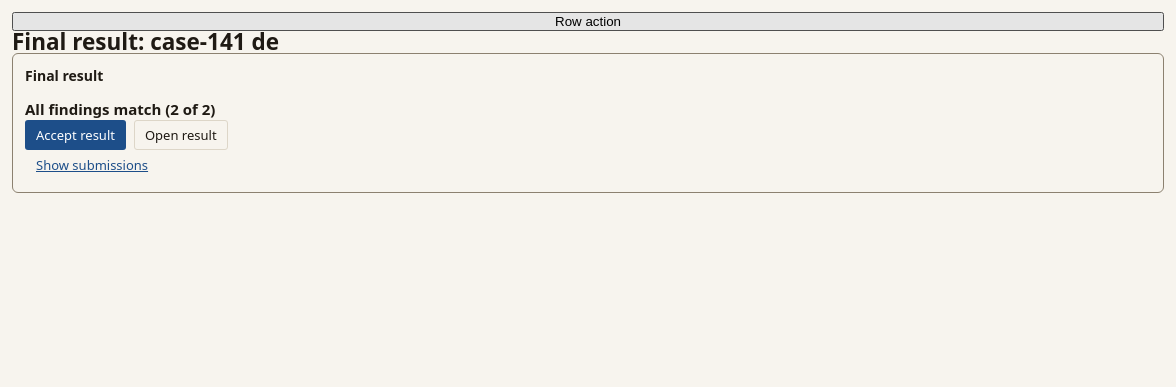
Test: full agreement (W1) › Show submissions lists the table
Click the button "Show submissions": (92, 165) [25,150,159,180]
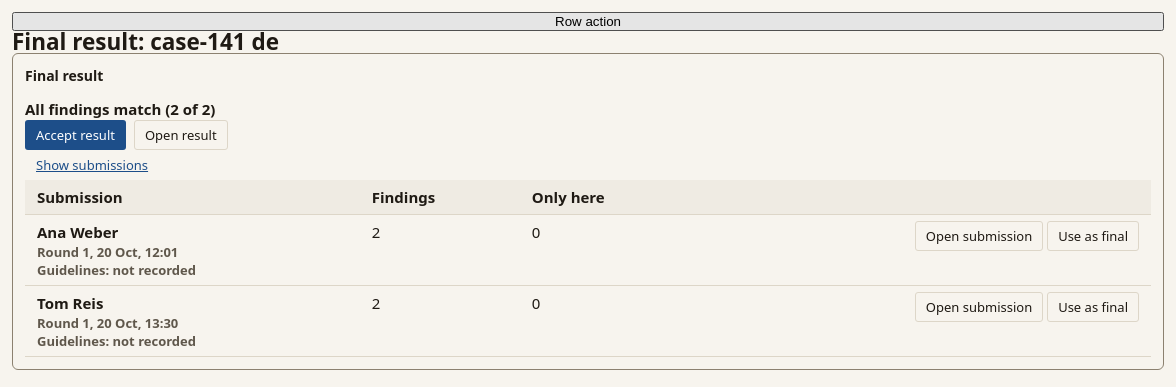
Check: the table named "Submissions, case-141 de" is shown, box [25,180,1151,357]
